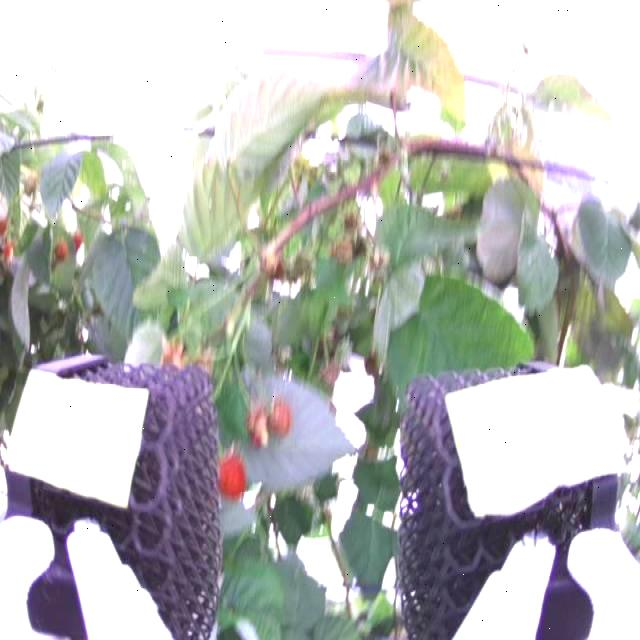Riped berries: (216, 446, 252, 499)
